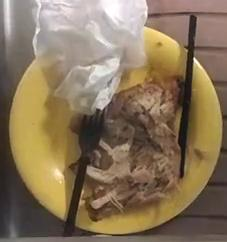chicken: (86, 78, 183, 221)
